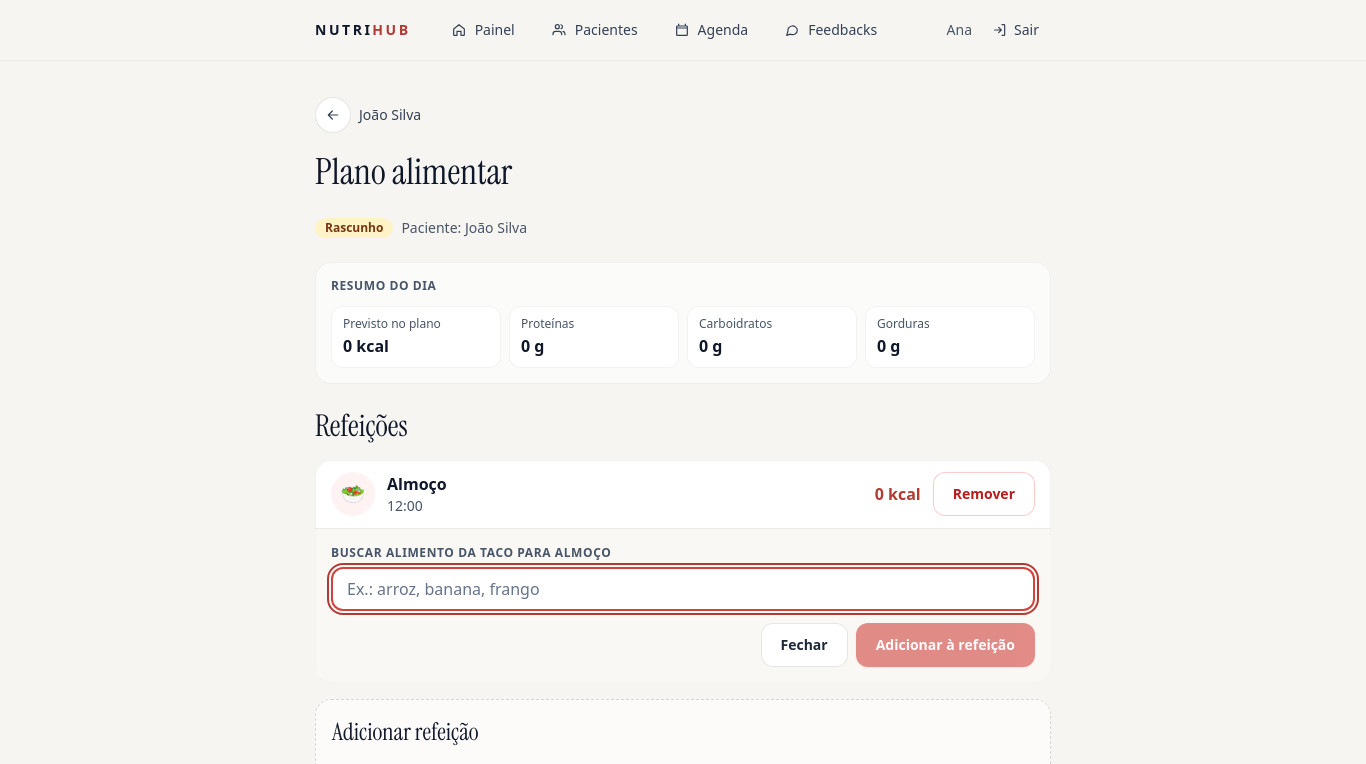
Test: ConstrutorDePlano — rascunho (RF-04) › busca na TACO, mostra a prévia dos macros e adiciona o alimento
This screenshot has width=1366, height=764.
Refeição sem alimento já abre a busca.
Type "arroz" into the search field labelled "Buscar alimento da TACO para Almoço" at x=683, y=589, box [331,567,1035,611]
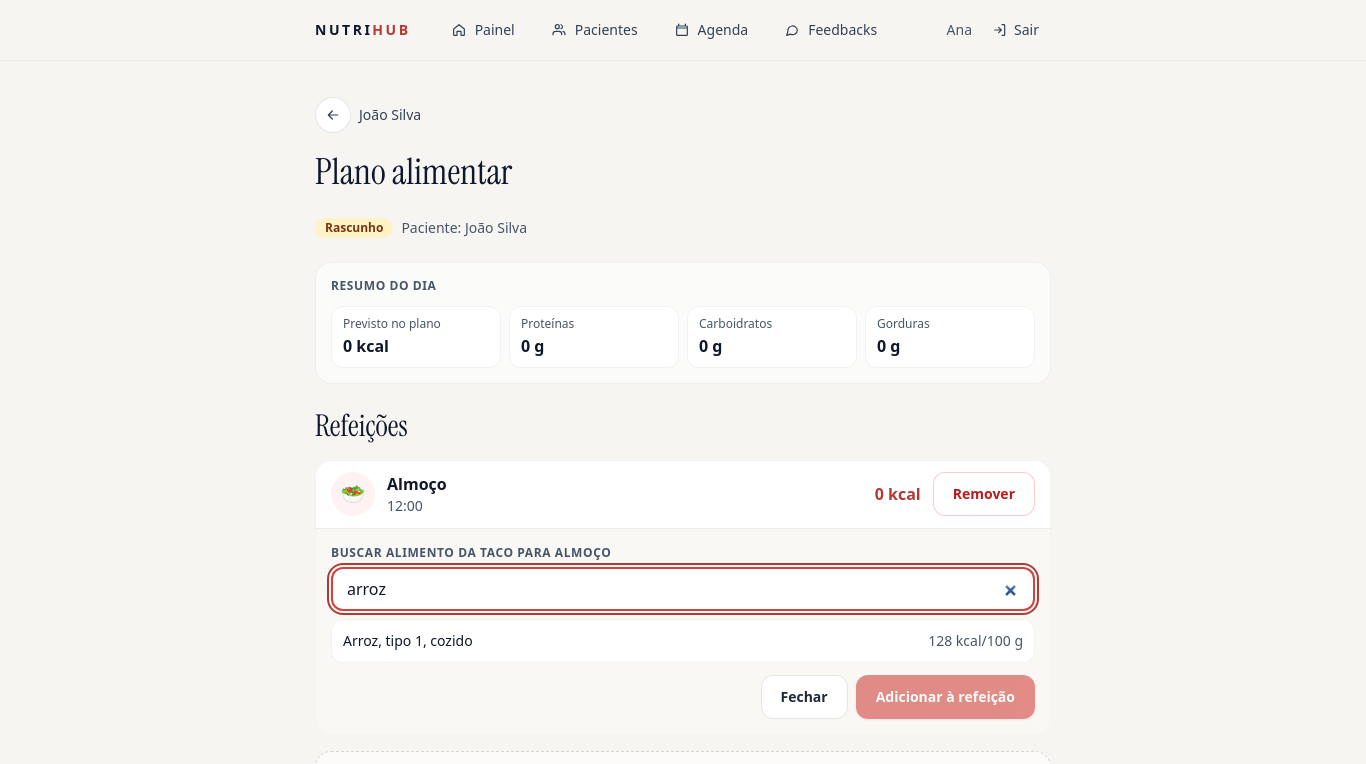
Click the button "Arroz, tipo 1, cozido 128 kcal/100 g" at x=408, y=640, box [331,619,1035,663]
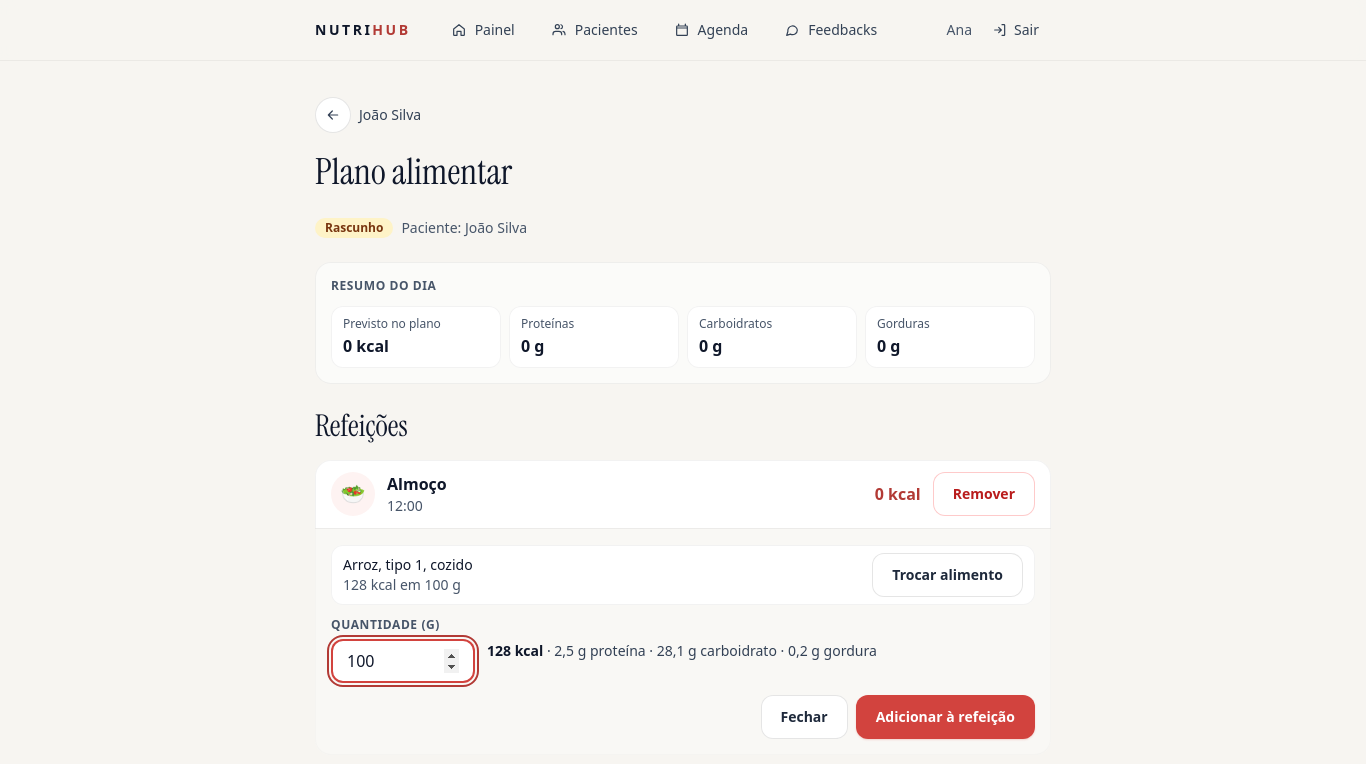
Replace the text in the number field labelled "Quantidade (g)" with "150" at x=403, y=661, box [331,639,475,683]
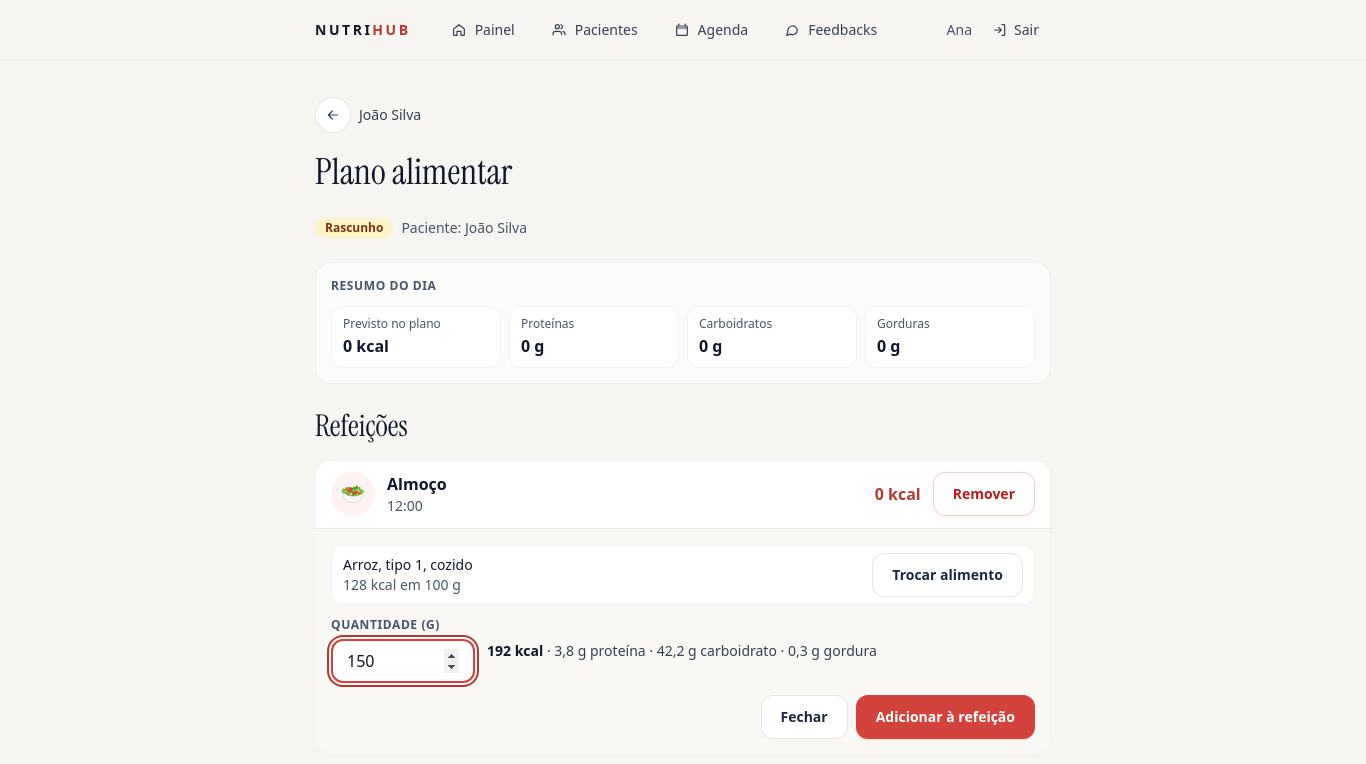
Now the text "192 kcal" is shown, box [487,641,543,660]
Click the button "Adicionar à refeição" at x=945, y=717, box [856,695,1035,739]
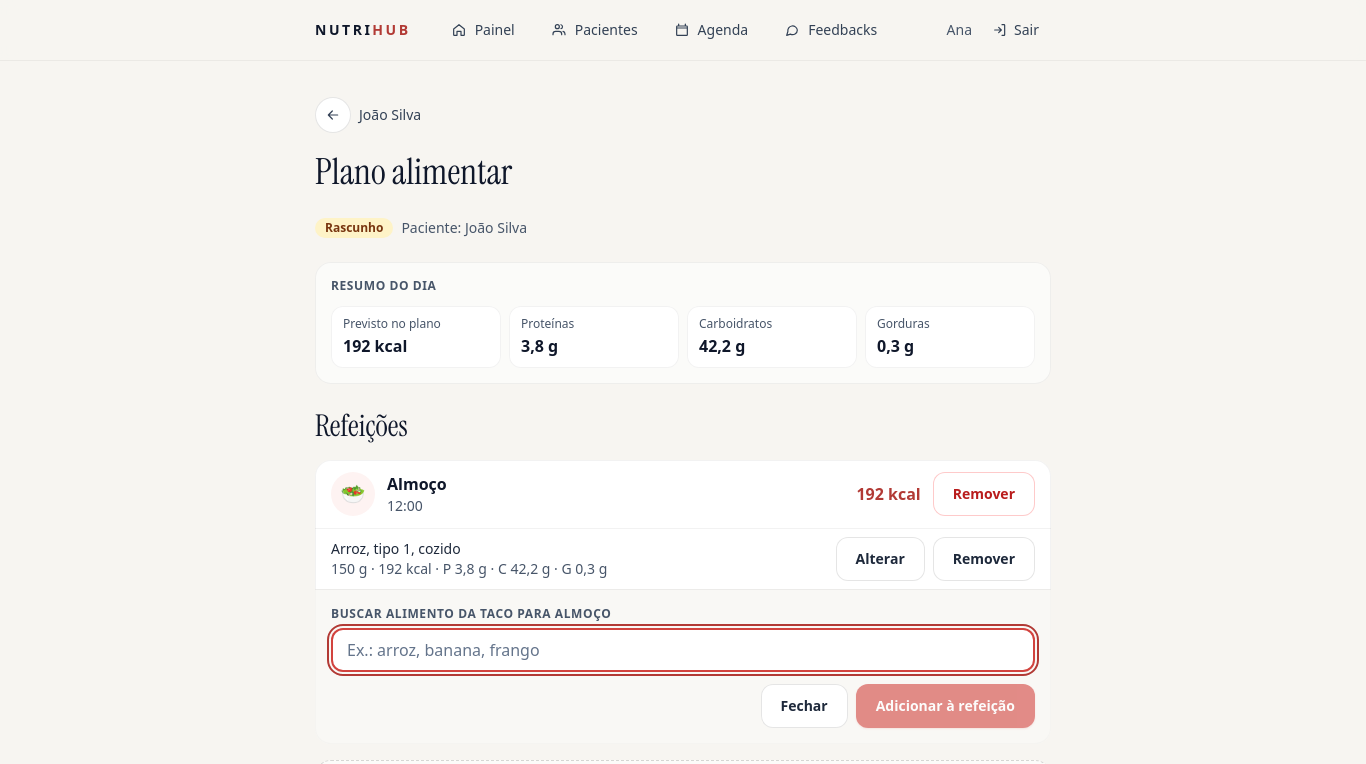
Now the text "192 kcal" below "Previsto no plano" is shown, box [343,335,407,357]
